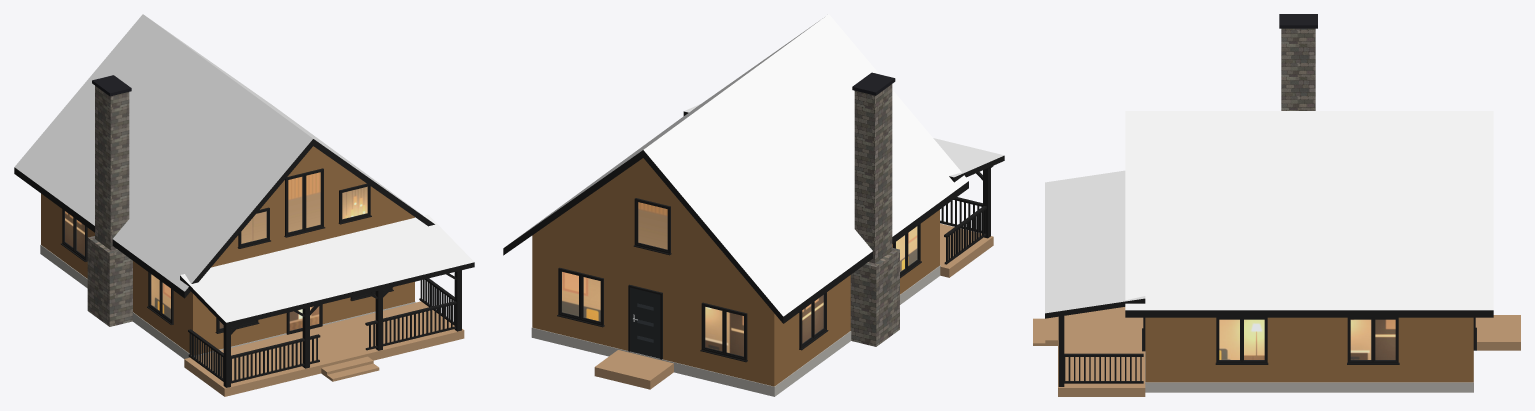
Rendered from metsamaja137_c0_p0_m0.glb.
3 renders of one model, left to right at view 1: azimuth 30°, elevation 25°; view 2: azimuth 150°, elevation 25°; view 3: azimuth 270°, elevation 25°, orthographic. The views are drawn at different scales.
Parts seen in each view (by area): view 1: roof, wall, fascia, deck, stone, room, glass, frame, plinth, metal; view 2: roof, wall, stone, fascia, room, glass, frame, plinth, deck, door, metal; view 3: roof, wall, deck, fascia, plinth, room, glass, stone, frame, metal.
Boxes of the visible parts, left/top/right/bottom form: roof: left=14, top=14, right=474, bottom=322; wall: left=41, top=146, right=414, bottom=355; fascia: left=14, top=139, right=474, bottom=387; deck: left=184, top=301, right=464, bottom=396; stone: left=87, top=86, right=132, bottom=326; room: left=65, top=172, right=367, bottom=330; glass: left=65, top=172, right=366, bottom=330; frame: left=61, top=168, right=393, bottom=334; plinth: left=40, top=244, right=415, bottom=358; metal: left=92, top=75, right=131, bottom=96; roof: left=510, top=14, right=1004, bottom=316; wall: left=532, top=158, right=939, bottom=386; stone: left=850, top=84, right=899, bottom=346; fascia: left=503, top=111, right=1004, bottom=323; room: left=562, top=202, right=917, bottom=356; glass: left=562, top=202, right=917, bottom=356; frame: left=557, top=198, right=921, bottom=362; plinth: left=531, top=265, right=940, bottom=396; deck: left=594, top=223, right=993, bottom=389; door: left=630, top=287, right=660, bottom=358; metal: left=852, top=72, right=895, bottom=95; roof: left=1045, top=111, right=1493, bottom=313; wall: left=1145, top=317, right=1473, bottom=382; deck: left=1033, top=307, right=1520, bottom=396; fascia: left=1045, top=298, right=1493, bottom=386; plinth: left=1145, top=351, right=1473, bottom=392; room: left=1219, top=319, right=1395, bottom=359; glass: left=1220, top=320, right=1394, bottom=359; stone: left=1281, top=28, right=1315, bottom=110; frame: left=1142, top=317, right=1476, bottom=364; metal: left=1279, top=14, right=1317, bottom=28.
Size of the model in its own units: 9 by 7.57 by 13.38.
Materials: 15 (6 with a texture image).
